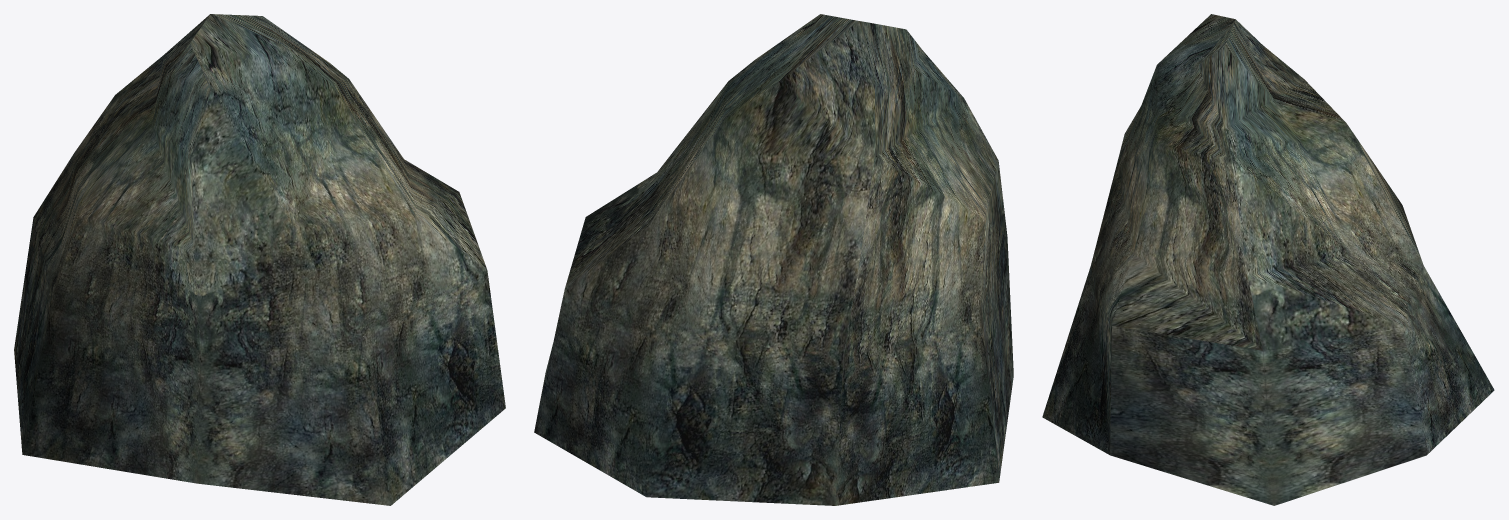
The model's file is mound_light_med2.fbx.
3 views of the same model, side by side, from view 1: azimuth 30°, elevation 25°; view 2: azimuth 150°, elevation 25°; view 3: azimuth 270°, elevation 25° (orthographic). The views are drawn at different scales.
Parts seen in each view (by area): view 1: lod_high; view 2: lod_high; view 3: lod_high.
Part boxes in pixels (x1,y1,x2,y2): lod_high: [14, 14, 505, 505]; lod_high: [534, 14, 1013, 505]; lod_high: [1042, 14, 1494, 505].
Size of the model in its own units: 15562 by 13649 by 15161.
1 material, 1 textured.
